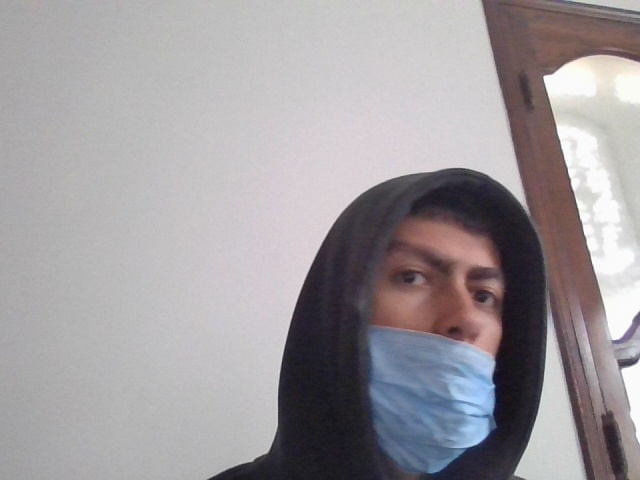mask_weared_incorrect: (352, 197, 526, 479)
